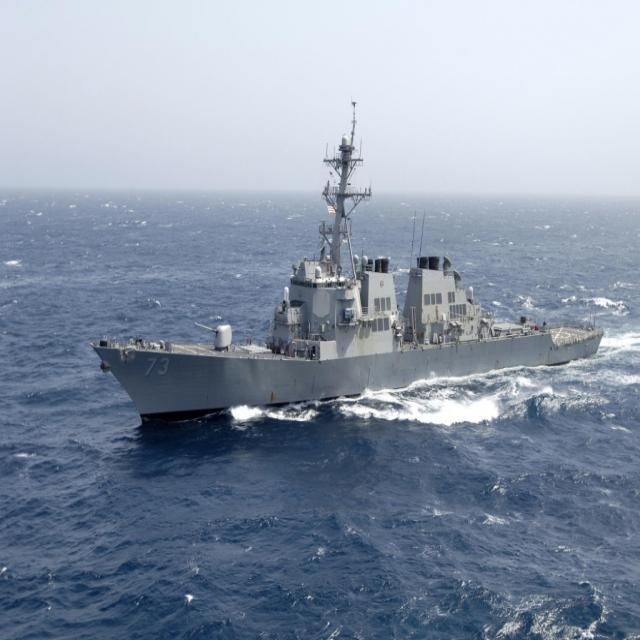navalvessels: (80, 104, 610, 412)
